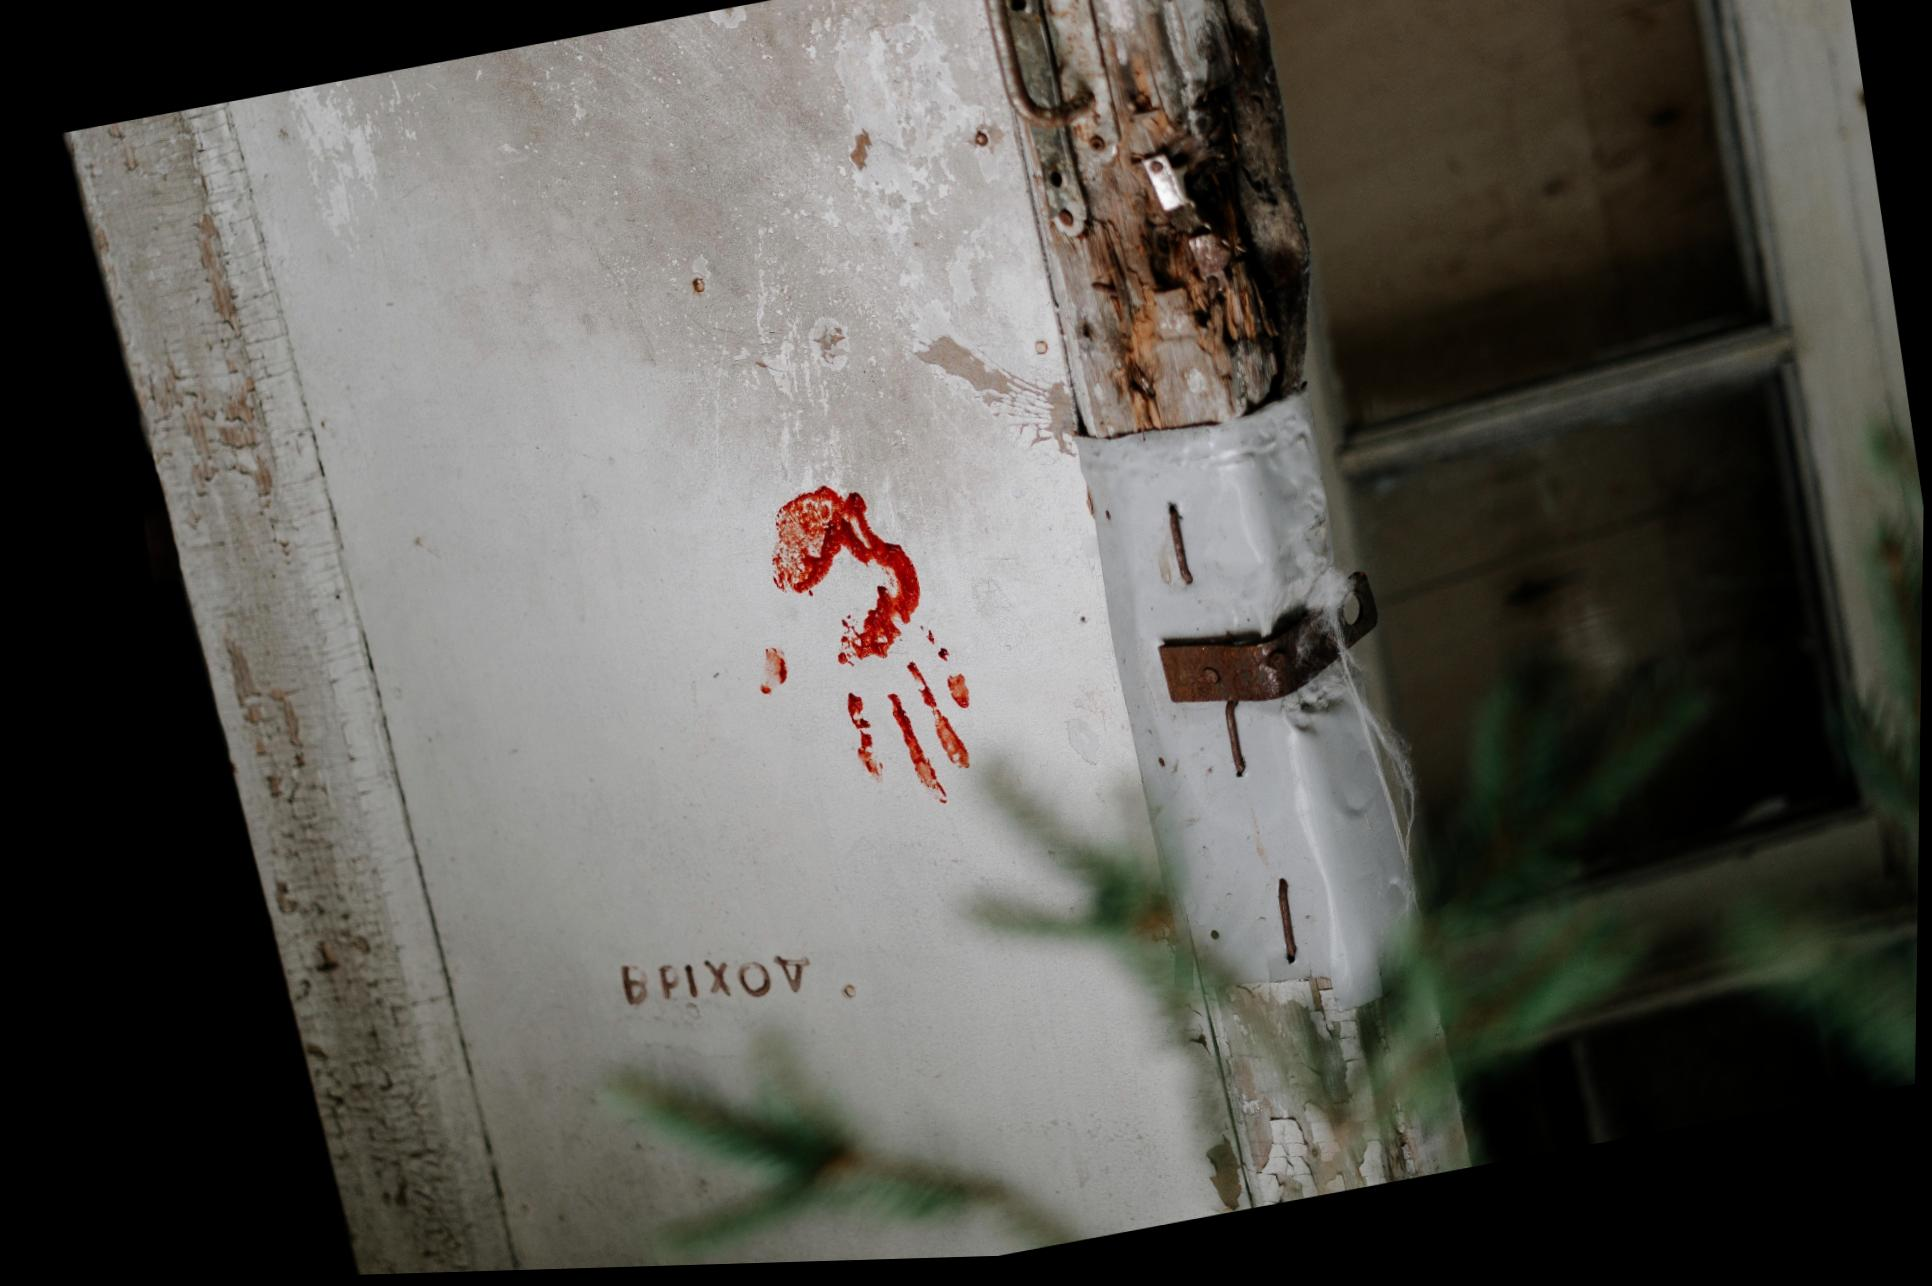Fire: (774, 492, 922, 673), (907, 665, 973, 776), (887, 698, 950, 811), (848, 698, 884, 784), (762, 653, 789, 700), (947, 675, 972, 716), (939, 653, 950, 669), (927, 636, 937, 652)
